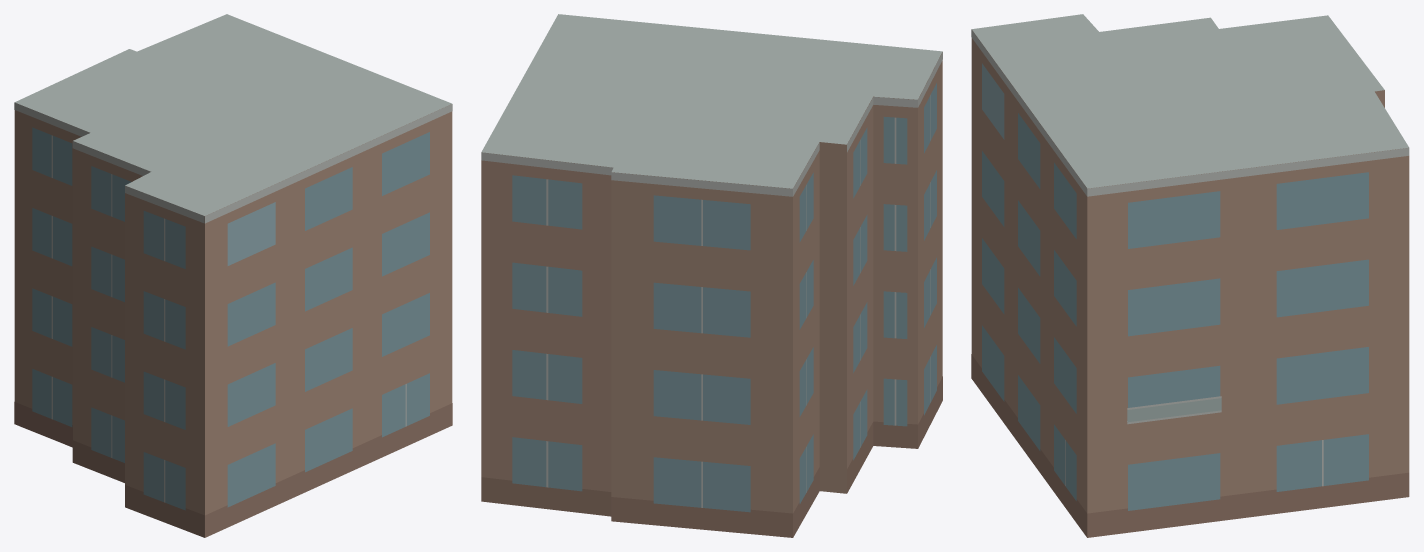
Rendered from survey-upis-32746206.glb.
The picture shows the model from 3 angles, left to right: view 1: azimuth 30°, elevation 25°; view 2: azimuth 150°, elevation 25°; view 3: azimuth 270°, elevation 25°; orthographic projection. The views are drawn at different scales.
Visible parts, largest first — view 1: survey-upis-32746206.tmp; view 2: survey-upis-32746206.tmp; view 3: survey-upis-32746206.tmp.
Boxes of the visible parts, bbox=[...] form: survey-upis-32746206.tmp: bbox=[14, 14, 452, 537]; survey-upis-32746206.tmp: bbox=[481, 14, 942, 537]; survey-upis-32746206.tmp: bbox=[971, 14, 1409, 537].
Size of the model in its own units: 11.26 by 10.5 by 11.94.
